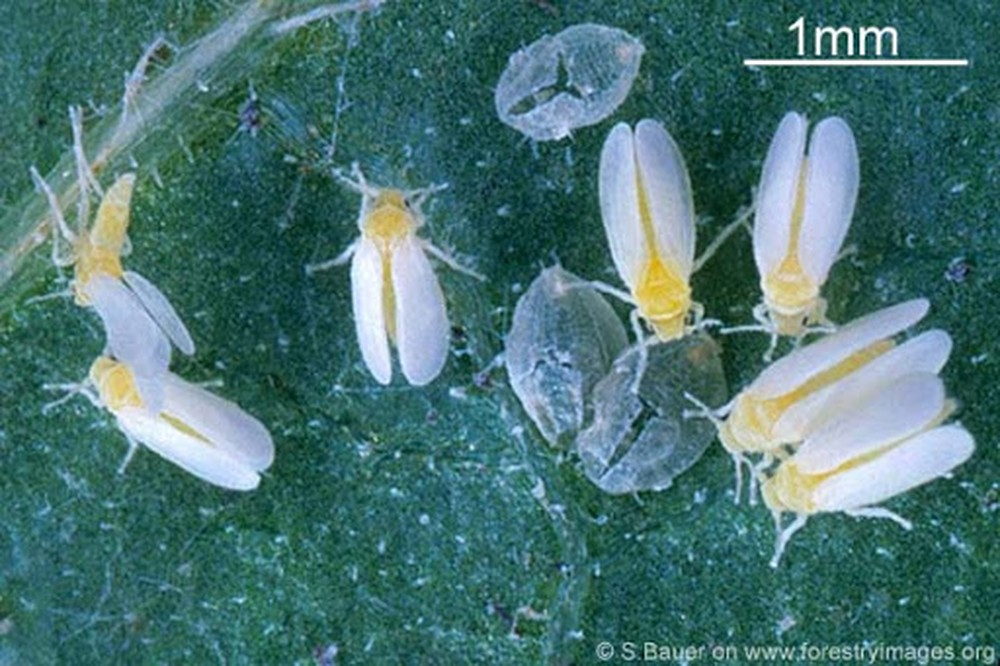Mosca Blanca: (698, 301, 981, 489), (29, 105, 217, 374), (306, 165, 496, 403), (53, 344, 293, 513), (574, 113, 733, 367), (758, 376, 977, 555), (739, 107, 860, 366)
